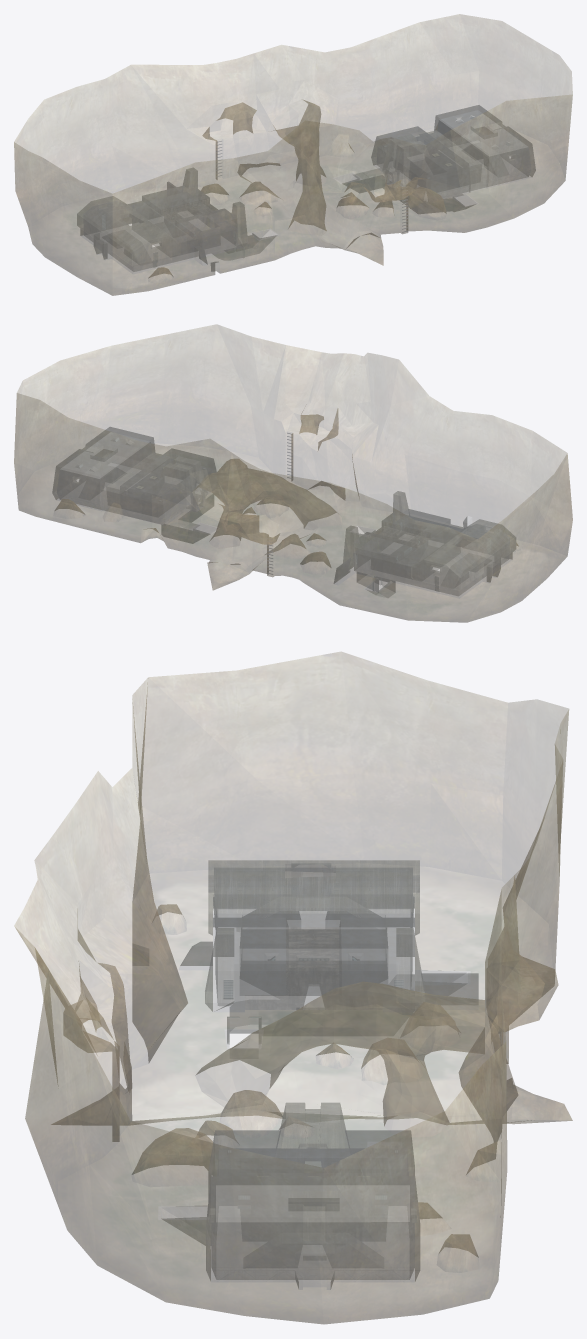
File: battle_creek_clean_1.glb
3 renders of one model, top to bottom at view 1: azimuth 30°, elevation 25°; view 2: azimuth 150°, elevation 25°; view 3: azimuth 270°, elevation 25°, orthographic. The views are drawn at different scales.
Visible parts, largest first — view 1: Beaver Creek; view 2: Beaver Creek; view 3: Beaver Creek.
Part boxes in pixels (x1,y1,x2,y2): Beaver Creek: [14, 14, 572, 295]; Beaver Creek: [14, 324, 572, 622]; Beaver Creek: [14, 652, 572, 1324].
Bounding box in the file's own units: 214 × 62.21 × 106.
Materials: 16 (14 with a texture image).
